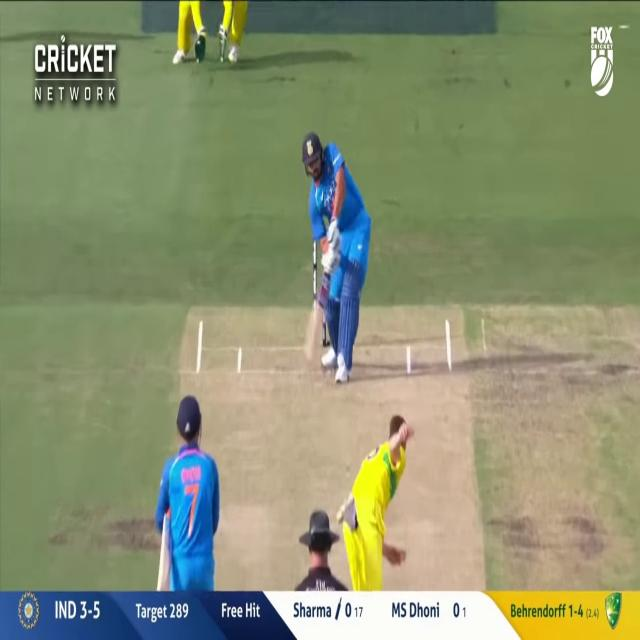stump: (313, 239, 317, 307), (322, 321, 327, 349)
